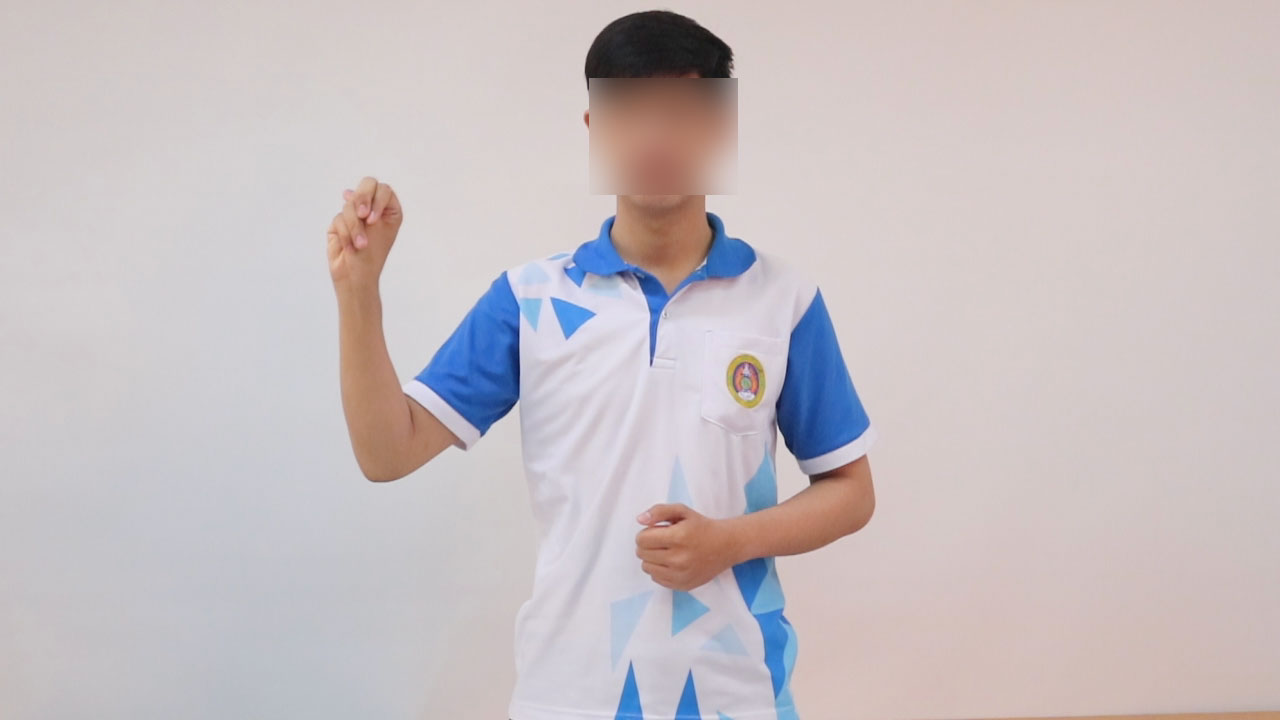nor: (308, 159, 409, 282)
